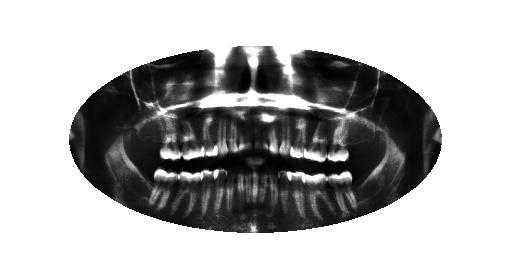Cavity: (251, 124, 271, 156)
Fillings: (329, 171, 365, 216), (173, 169, 204, 219), (302, 171, 334, 217), (150, 115, 180, 161), (151, 166, 178, 214), (304, 116, 330, 165), (174, 119, 205, 160), (327, 120, 354, 164)
